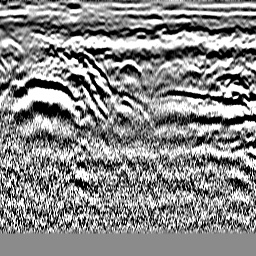cavity: (115, 58, 141, 79)
